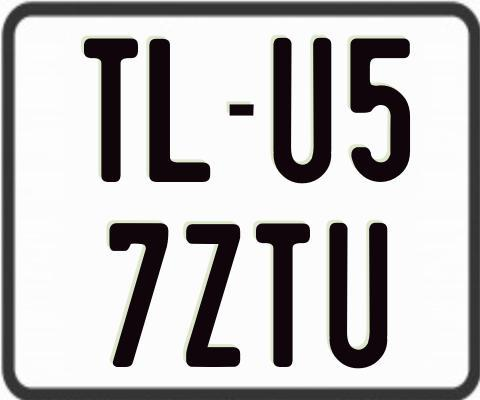5: (349, 37, 412, 187)
7: (108, 220, 171, 366)
L: (149, 37, 214, 184)
T: (84, 37, 144, 187), (254, 222, 314, 372)
U: (328, 223, 388, 369), (273, 38, 331, 188)
Z: (183, 223, 242, 371)
